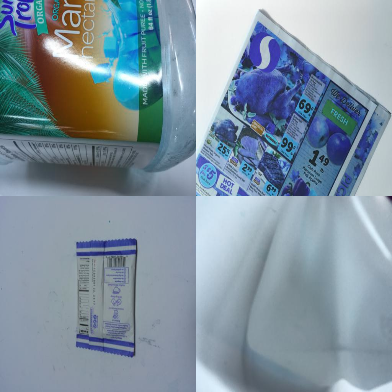paper: (198, 8, 391, 196)
plastic: (196, 196, 391, 392), (1, 1, 196, 172)
trash: (75, 238, 137, 357)
